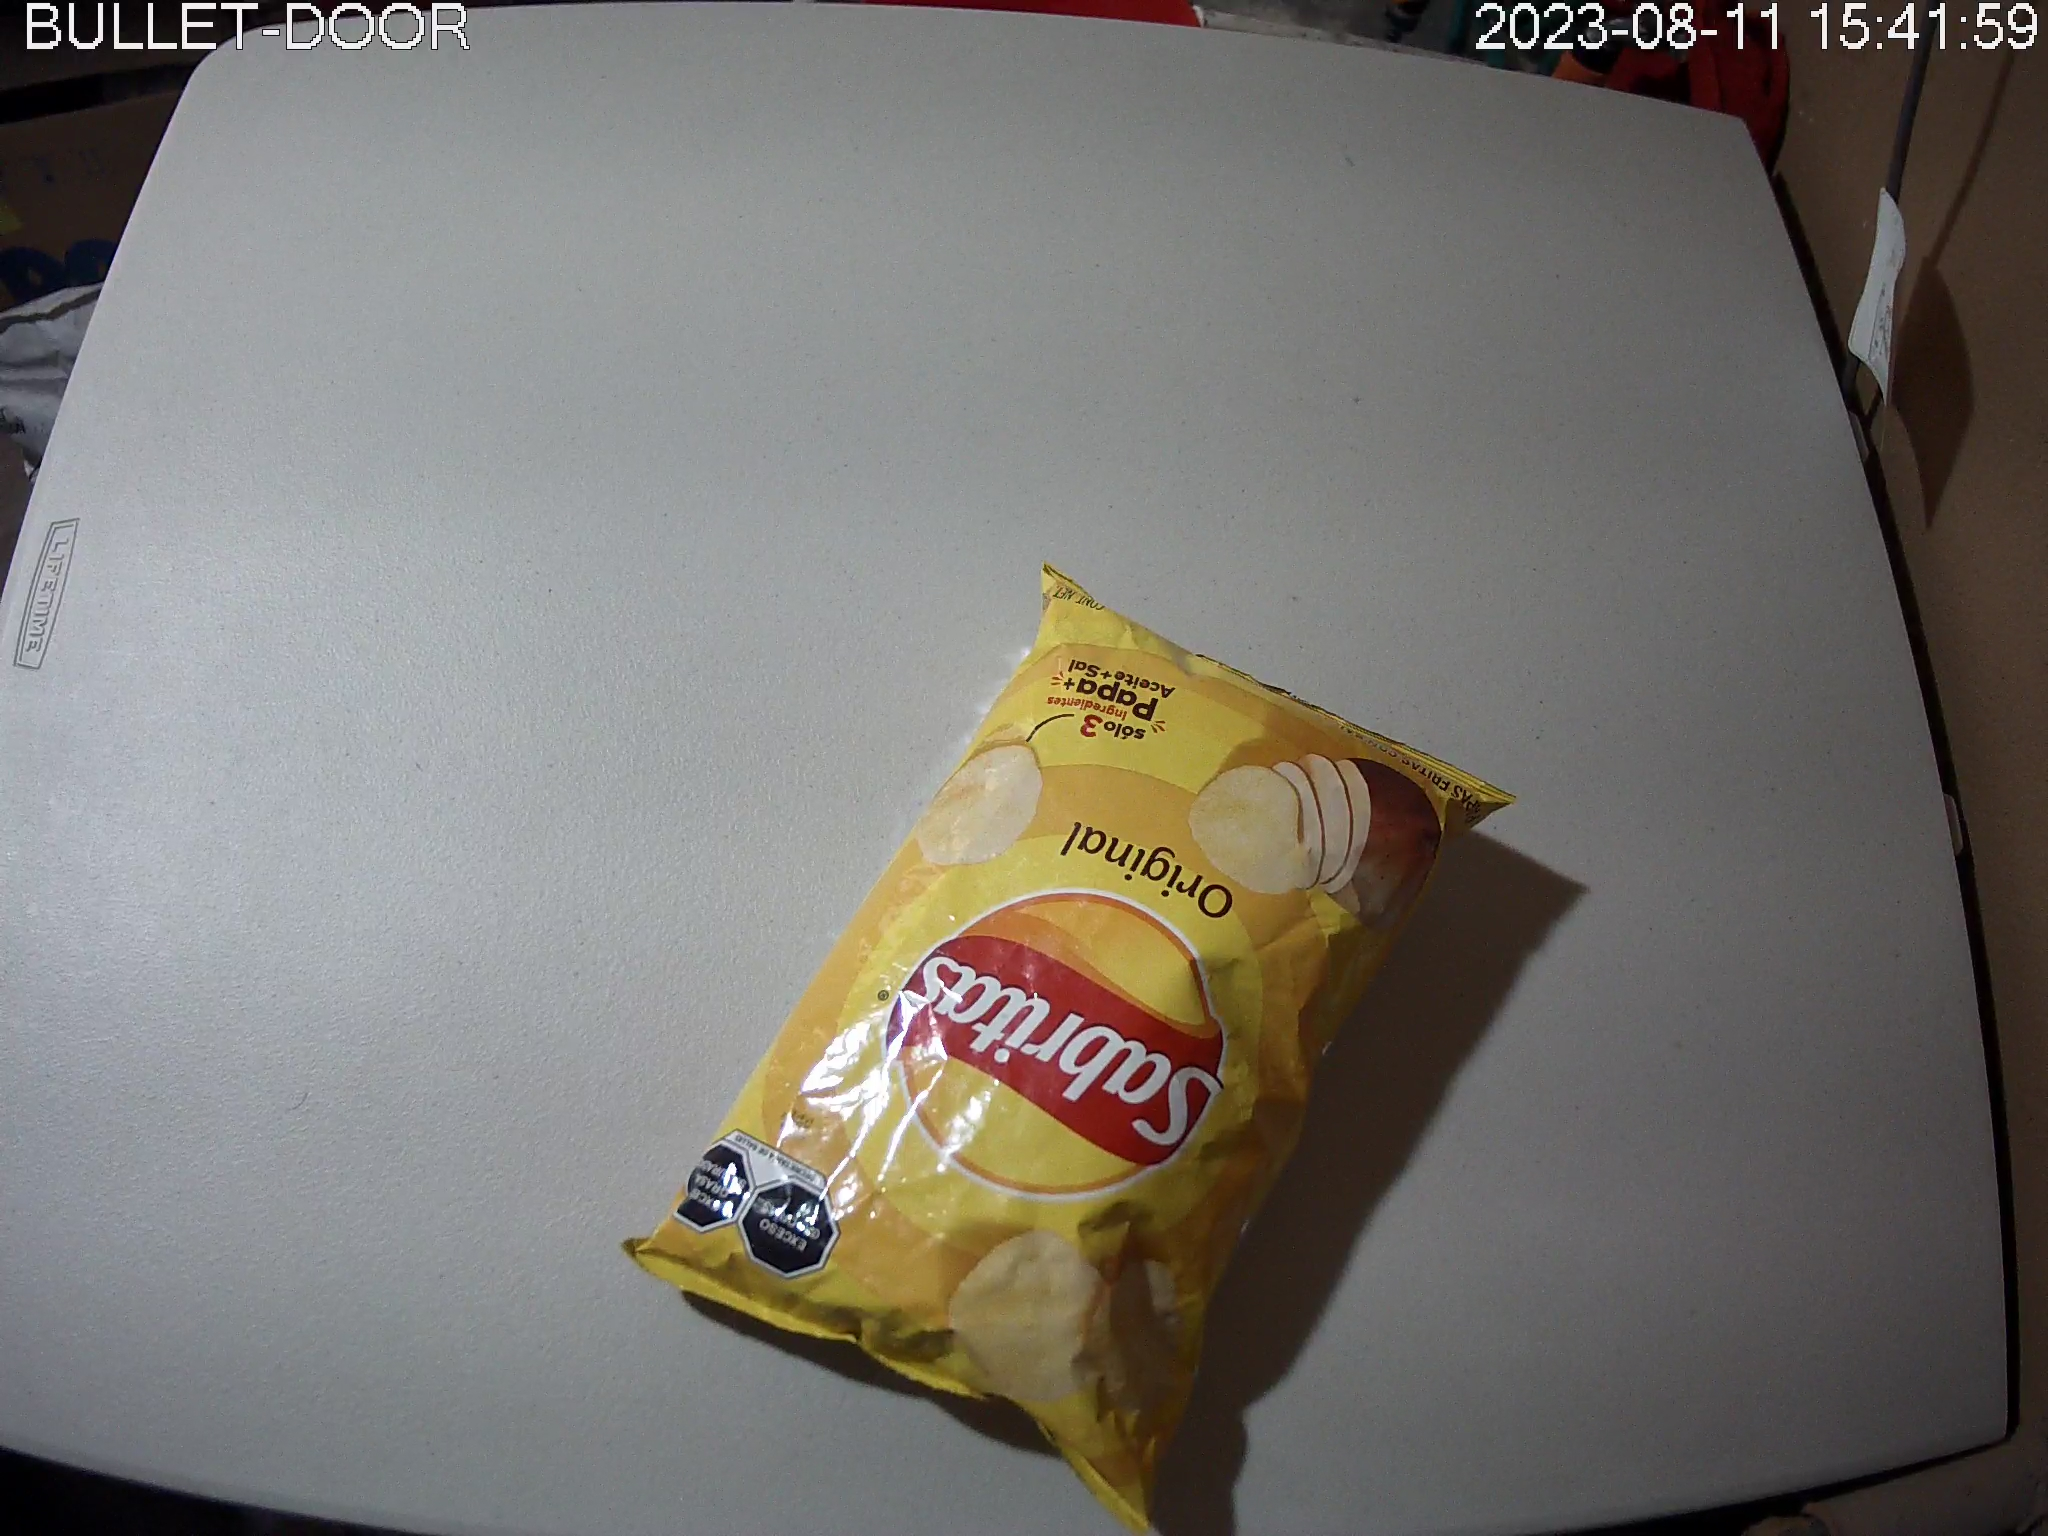Sabritas_160_F: (619, 563, 1517, 1534)
